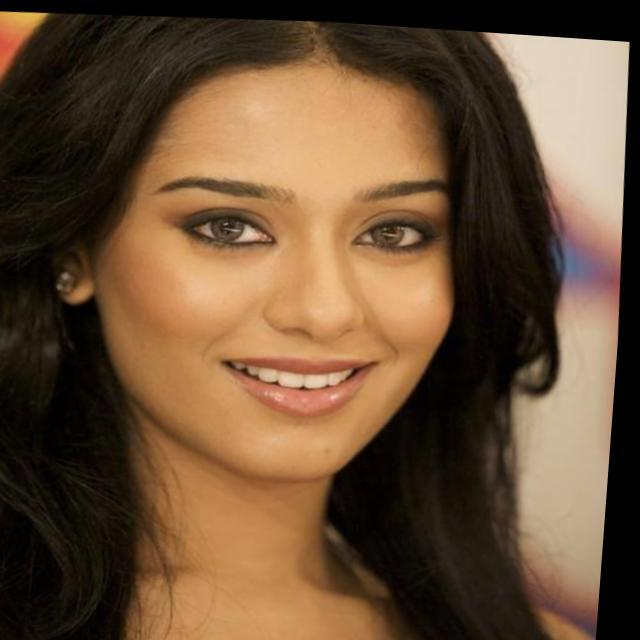Nonhelmet: (61, 15, 470, 478)
